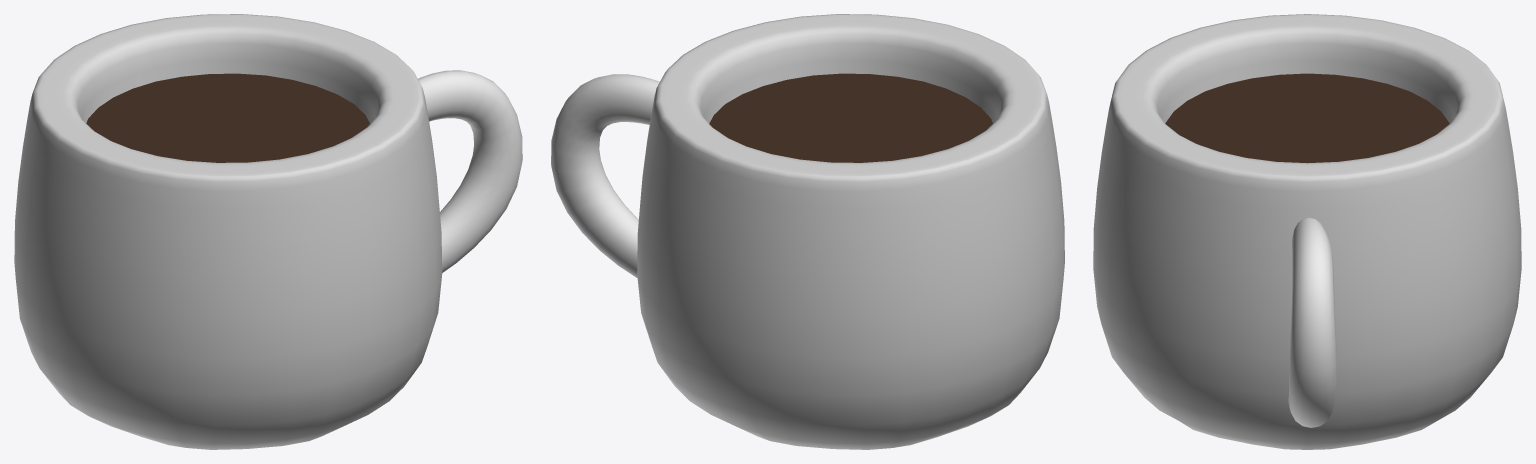
Rendered from coffee.fbx.
3 views of the same model, side by side, from view 1: azimuth 30°, elevation 25°; view 2: azimuth 150°, elevation 25°; view 3: azimuth 270°, elevation 25° (orthographic).
Visible parts, largest first — view 1: cup, Circle.003; view 2: cup, Circle.003; view 3: cup, Circle.003.
Boxes of the visible parts, box(x1,y1,x2,y2) form: cup: box(14, 14, 442, 449); Circle.003: box(418, 70, 522, 272); cup: box(637, 14, 1064, 449); Circle.003: box(551, 74, 659, 277); cup: box(1093, 14, 1521, 449); Circle.003: box(1288, 217, 1337, 427).
Size of the model in its own units: 41.18 by 25.81 by 31.9.
